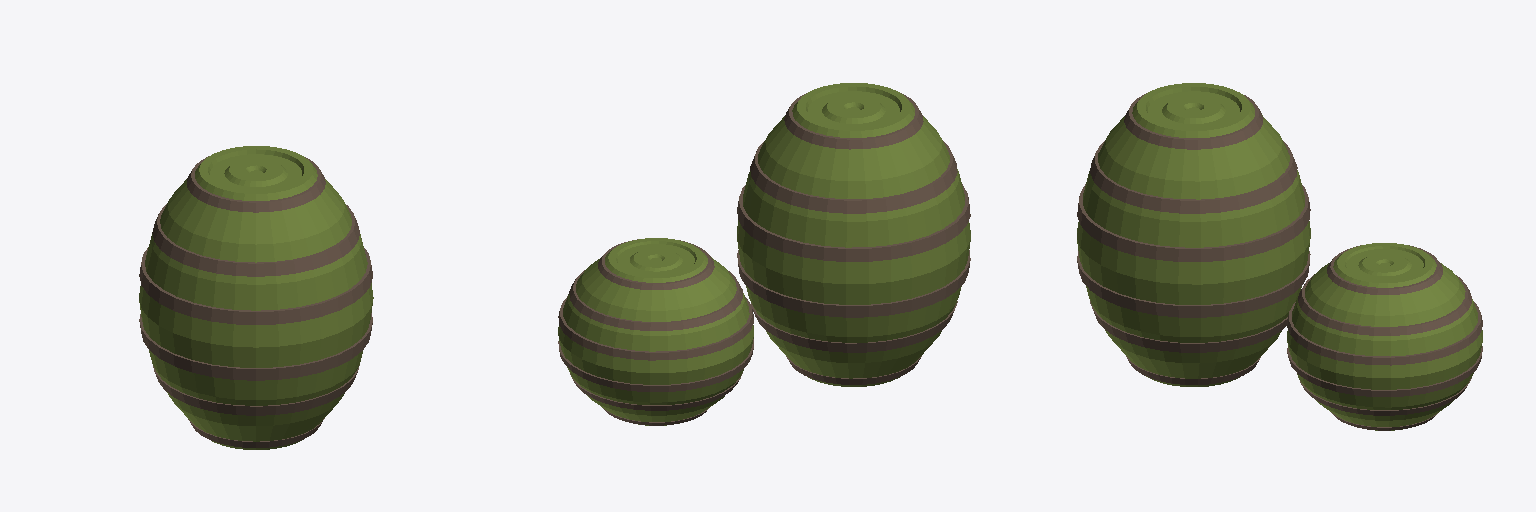
The model's file is Imbakan-Lv1_Empty.obj.
3 views of the same model, side by side, from view 1: azimuth 30°, elevation 25°; view 2: azimuth 150°, elevation 25°; view 3: azimuth 270°, elevation 25° (orthographic).
Parts seen in each view (by area): view 1: Barrel_Cylinder.002; view 2: Barrel_Cylinder.002, Barrel_Cylinder.001; view 3: Barrel_Cylinder.002, Barrel_Cylinder.001.
Part boxes in pixels (left/top/right/bottom): Barrel_Cylinder.002: left=139, top=146, right=373, bottom=449; Barrel_Cylinder.002: left=737, top=83, right=970, bottom=386; Barrel_Cylinder.001: left=558, top=238, right=753, bottom=425; Barrel_Cylinder.002: left=1077, top=83, right=1310, bottom=386; Barrel_Cylinder.001: left=1287, top=243, right=1482, bottom=430.
Size of the model in its own units: 4.18 by 3.54 by 5.09.